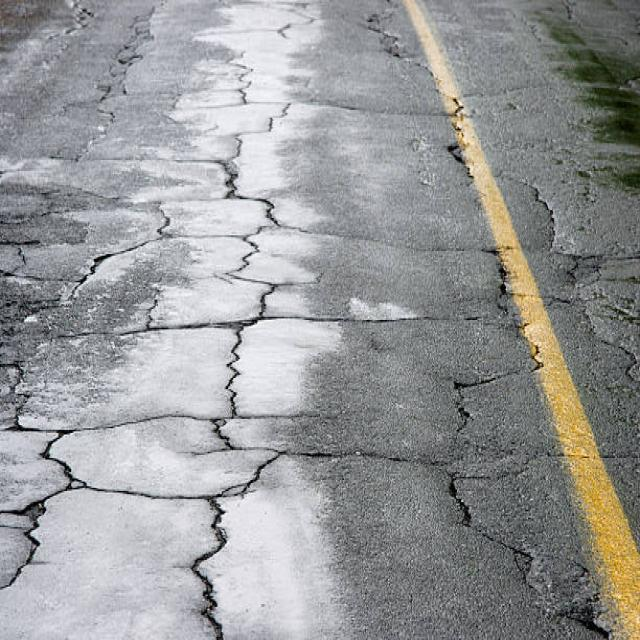Drain Hole: (75, 82, 580, 640)
